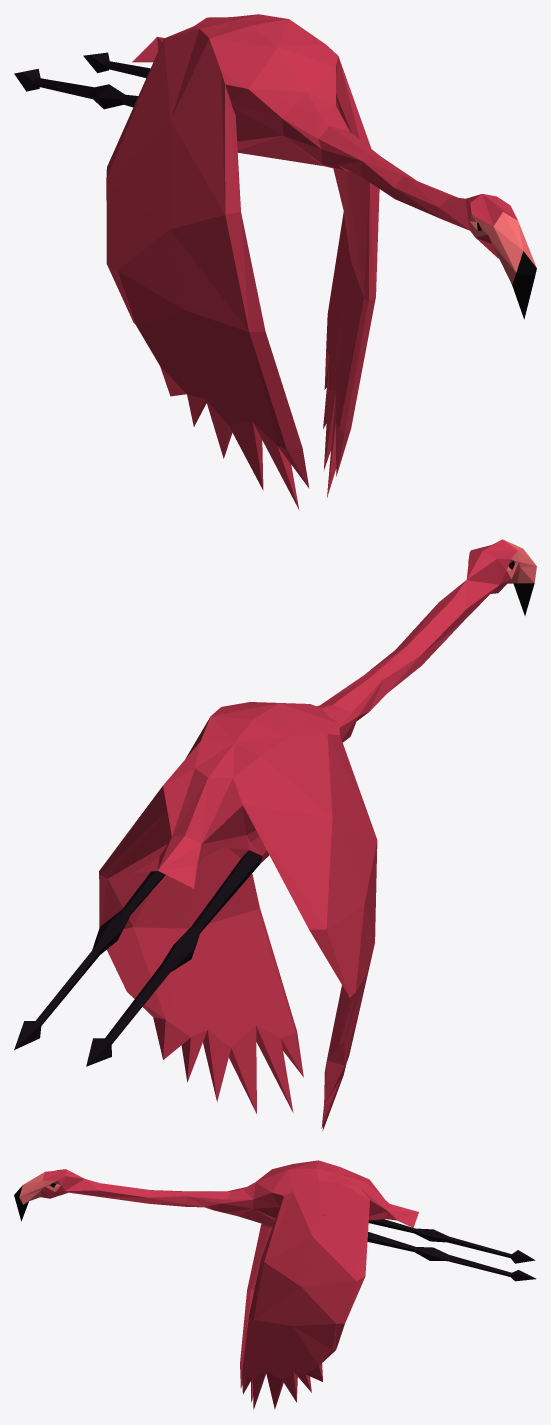
Rendered from bird_skin.glb.
The picture shows the model from 3 angles, top to bottom: view 1: azimuth 30°, elevation 25°; view 2: azimuth 150°, elevation 25°; view 3: azimuth 270°, elevation 25°; orthographic projection. The views are drawn at different scales.
Visible parts, largest first — view 1: Mesh_0; view 2: Mesh_0; view 3: Mesh_0.
Boxes of the visible parts, x1,y1,x2,y2 form: Mesh_0: (14, 14, 536, 509); Mesh_0: (14, 539, 536, 1130); Mesh_0: (14, 1160, 536, 1409).
Bounding box in the file's own units: 52.2 × 89.1 × 177.
Materials: 1 (1 with a texture image).
